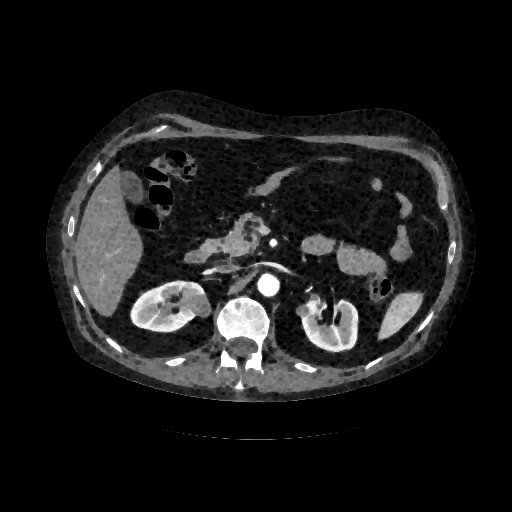Lesion: (184, 292, 214, 322)
